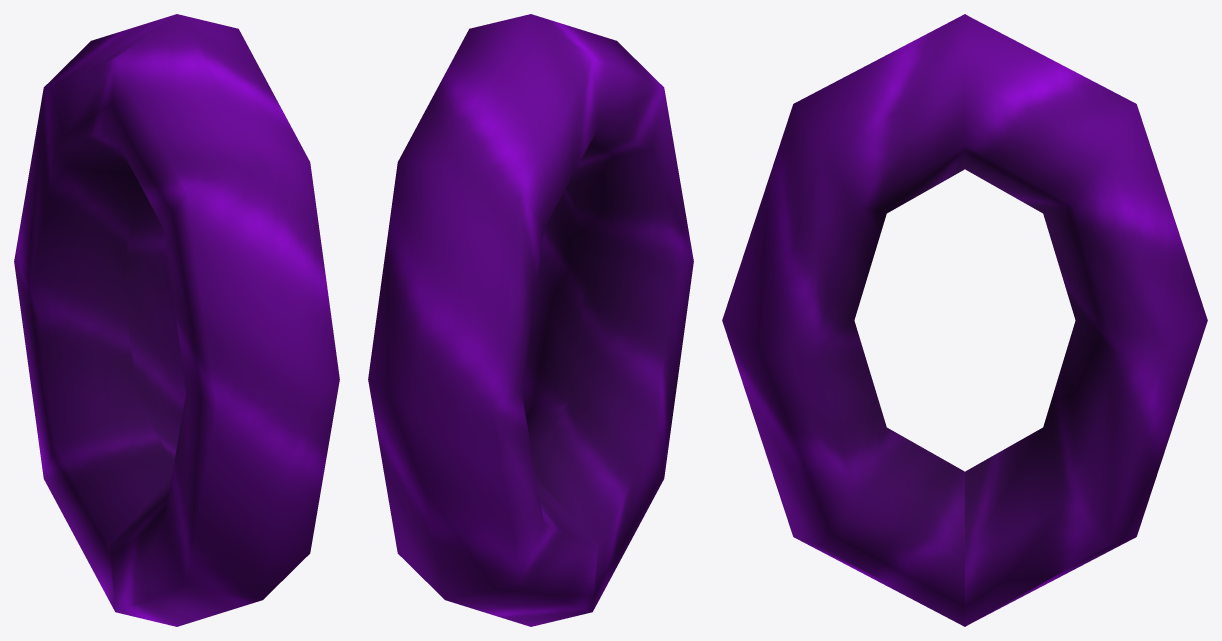
The model's file is String_Loop_D.fbx.
The picture shows the model from 3 angles, left to right: view 1: azimuth 30°, elevation 25°; view 2: azimuth 150°, elevation 25°; view 3: azimuth 270°, elevation 25°; orthographic projection.
Parts seen in each view (by area): view 1: String_Loop_D; view 2: String_Loop_D; view 3: String_Loop_D.
Boxes of the visible parts, x1,y1,x2,y2 form: String_Loop_D: (14, 14, 339, 626); String_Loop_D: (368, 14, 693, 626); String_Loop_D: (722, 14, 1207, 626).
Size of the model in its own units: 2.56 by 11.15 by 8.01.
